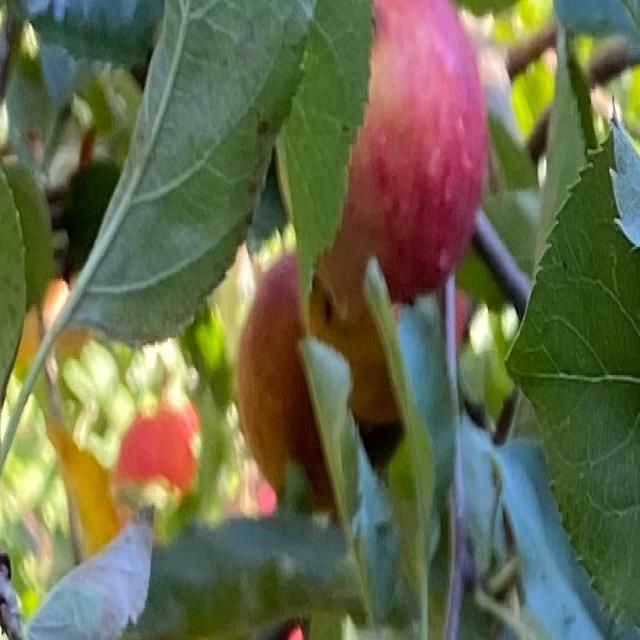Apples: (285, 0, 489, 290), (242, 249, 405, 512), (117, 406, 199, 492)
